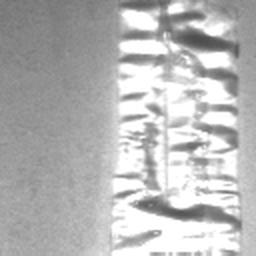Slag inclusion: (108, 0, 244, 256)
